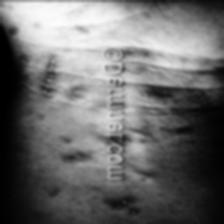Toxin: (106, 195, 142, 214), (38, 80, 60, 98), (72, 82, 90, 102)
